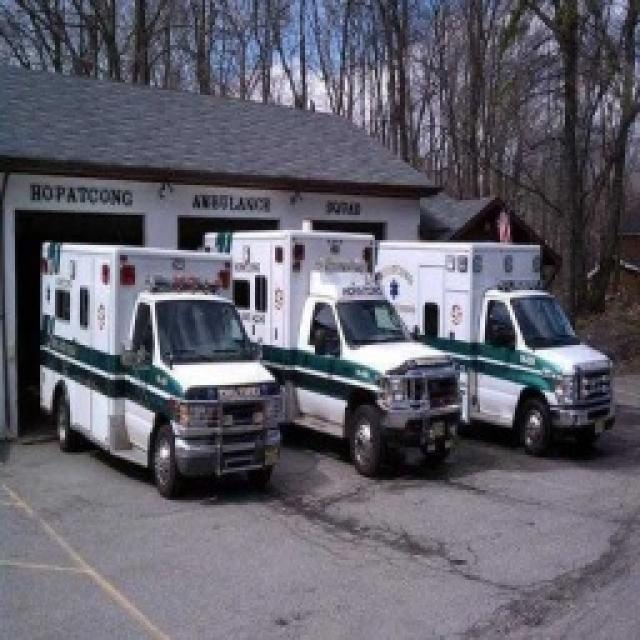ambulance: (38, 240, 280, 495), (232, 225, 460, 475)
